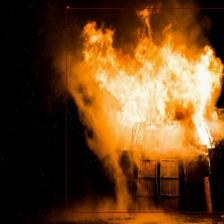fire: (66, 8, 224, 212)
